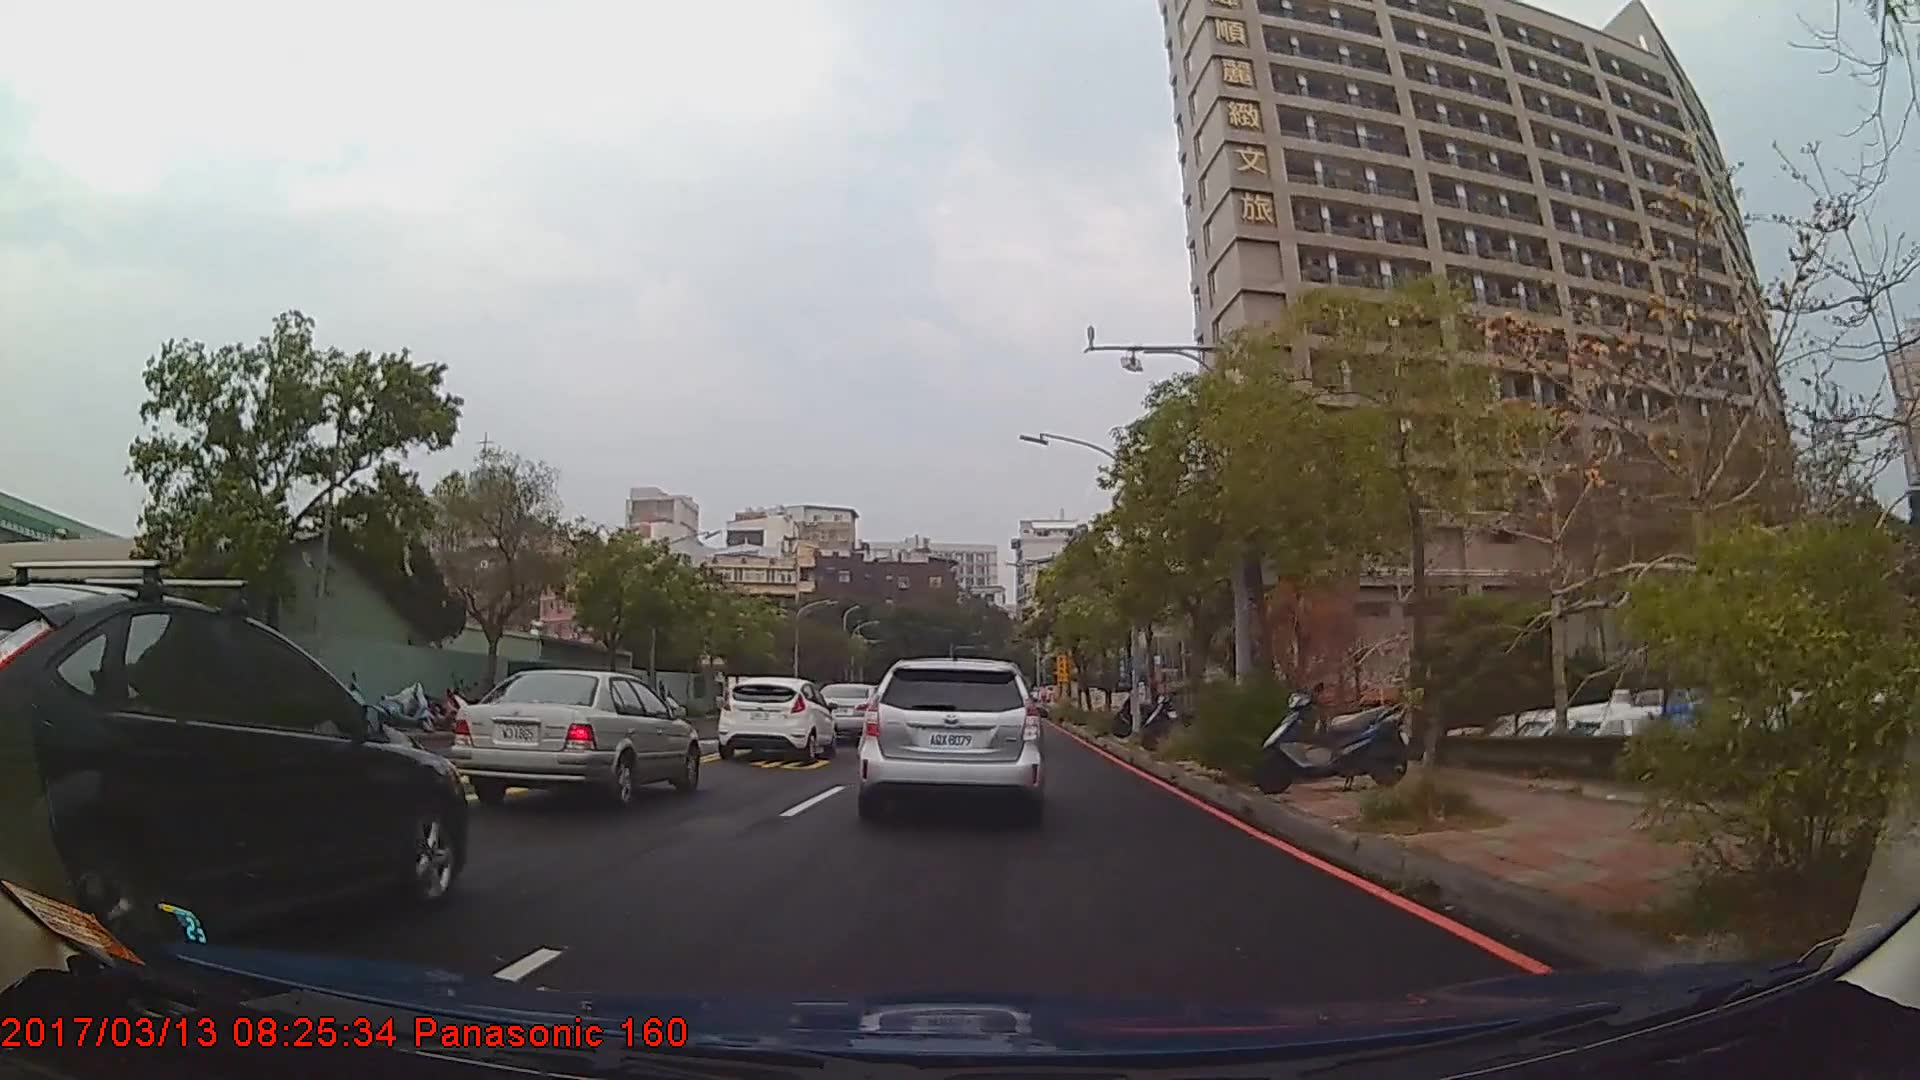vehicle: (0, 576, 467, 959), (450, 667, 700, 811), (855, 657, 1044, 823), (716, 675, 837, 760), (814, 682, 885, 744)
